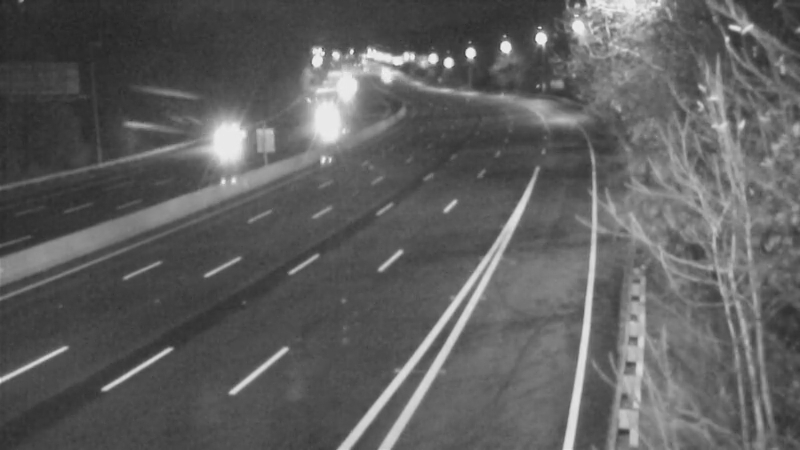vehicle: (361, 50, 411, 100), (202, 115, 252, 165), (301, 95, 351, 145)
